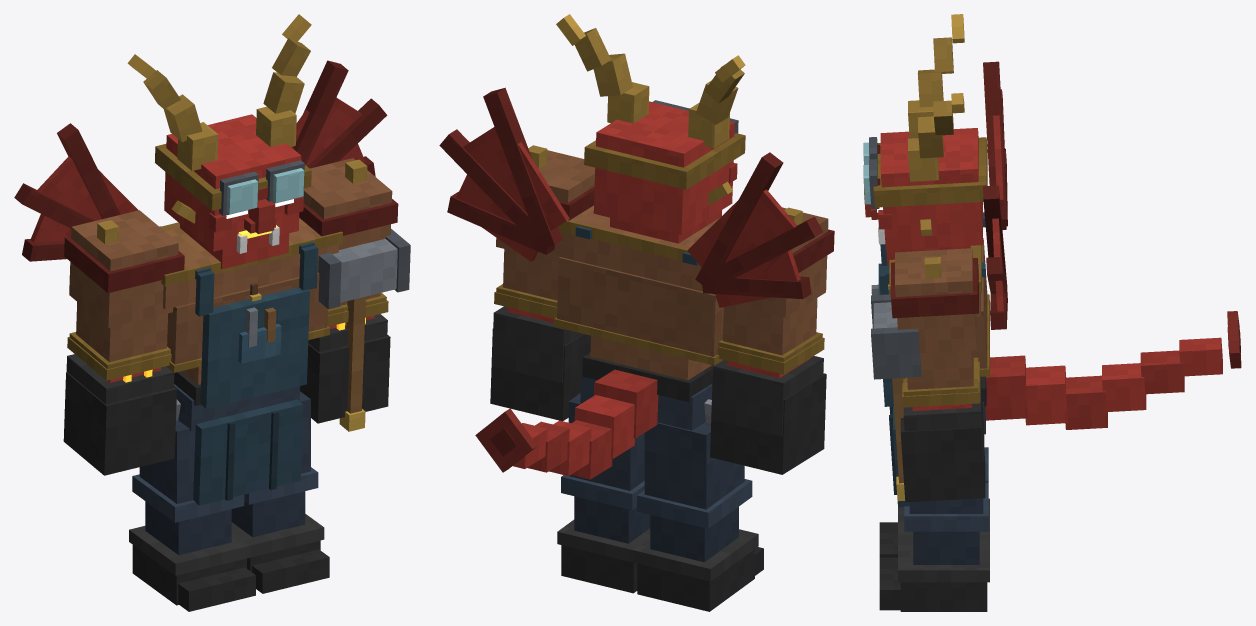
File: demon_forgeron.glb
3 renders of one model, left to right at view 1: azimuth 30°, elevation 25°; view 2: azimuth 150°, elevation 25°; view 3: azimuth 270°, elevation 25°, orthographic. The views are drawn at different scales.
Parts seen in each view (by area): view 1: Torso, ArmR, Head, LegR, ArmL, LegL, HandL; view 2: Torso, Head, ArmR, LegR, ArmL, LegL; view 3: Torso, ArmL, Head, LegL, HandL, LegR.
Boxes of the visible parts, <box> form: Torso: <box>14,60,387,505</box>; ArmR: <box>63,210,184,475</box>; Head: <box>127,14,311,269</box>; LegR: <box>129,420,255,611</box>; ArmL: <box>299,158,398,423</box>; LegL: <box>231,391,329,593</box>; HandL: <box>318,229,410,431</box>; Torso: <box>439,87,822,479</box>; Head: <box>556,14,745,243</box>; ArmR: <box>710,207,834,474</box>; LegR: <box>633,422,763,611</box>; ArmL: <box>490,145,595,421</box>; LegL: <box>557,393,650,593</box>; Torso: <box>871,61,1241,507</box>; ArmL: <box>891,248,985,502</box>; Head: <box>863,14,987,265</box>; LegL: <box>879,483,989,611</box>; HandL: <box>871,294,921,500</box>; LegR: <box>879,447,989,557</box>.
Size of the model in its own units: 1.58 by 2.2 by 1.44.
43 materials, 43 textured.
